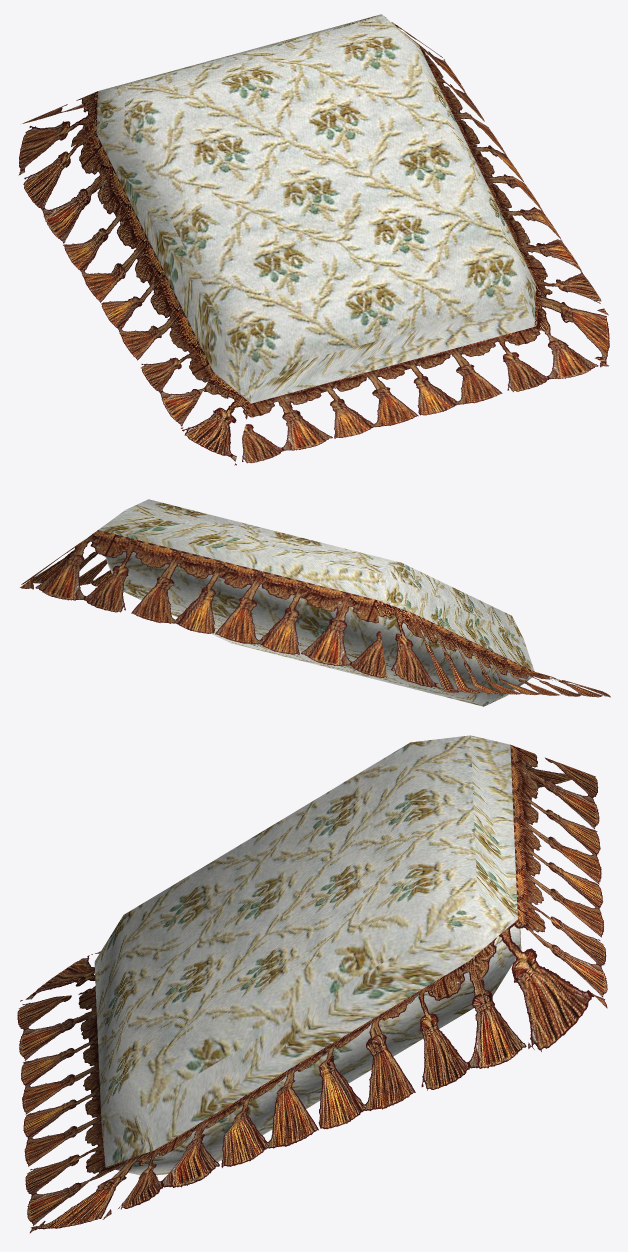
The model's file is PIllow_Fringe_Tilted.fbx.
3 renders of one model, top to bottom at view 1: azimuth 30°, elevation 25°; view 2: azimuth 150°, elevation 25°; view 3: azimuth 270°, elevation 25°, orthographic. The views are drawn at different scales.
Visible parts, largest first — view 1: PillowFringedTilted; view 2: PillowFringedTilted; view 3: PillowFringedTilted.
Boxes of the visible parts, bbox=[...] form: PillowFringedTilted: bbox=[18, 14, 609, 465]; PillowFringedTilted: bbox=[20, 499, 610, 706]; PillowFringedTilted: bbox=[17, 735, 607, 1233].
Bounding box in the file's own units: 90.88 × 47.45 × 81.99.
